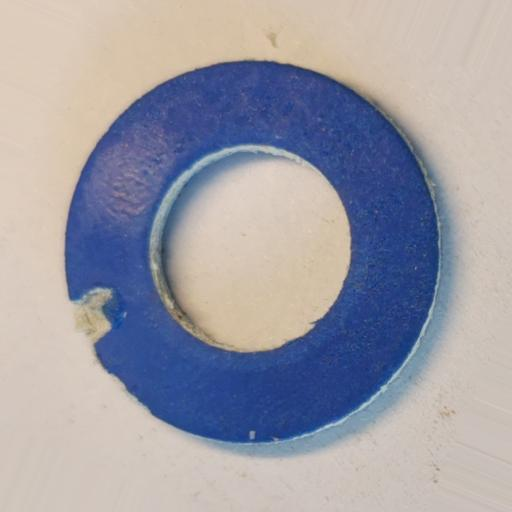defect: (72, 287, 120, 344)
